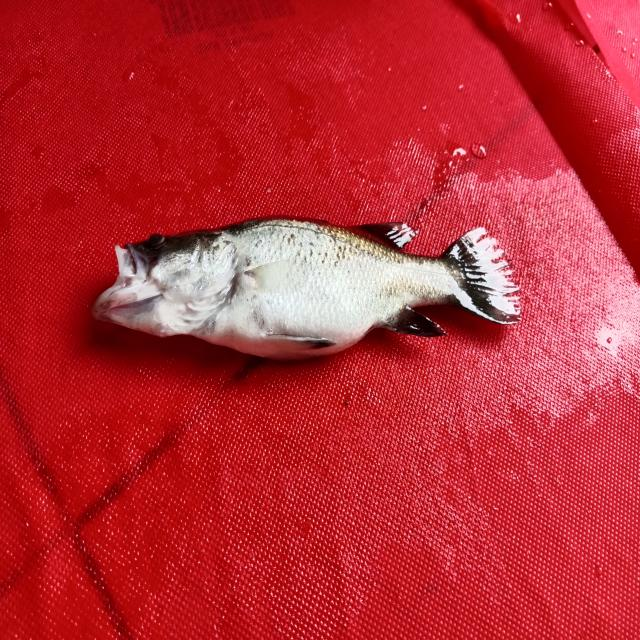ikan: (70, 204, 532, 383)
